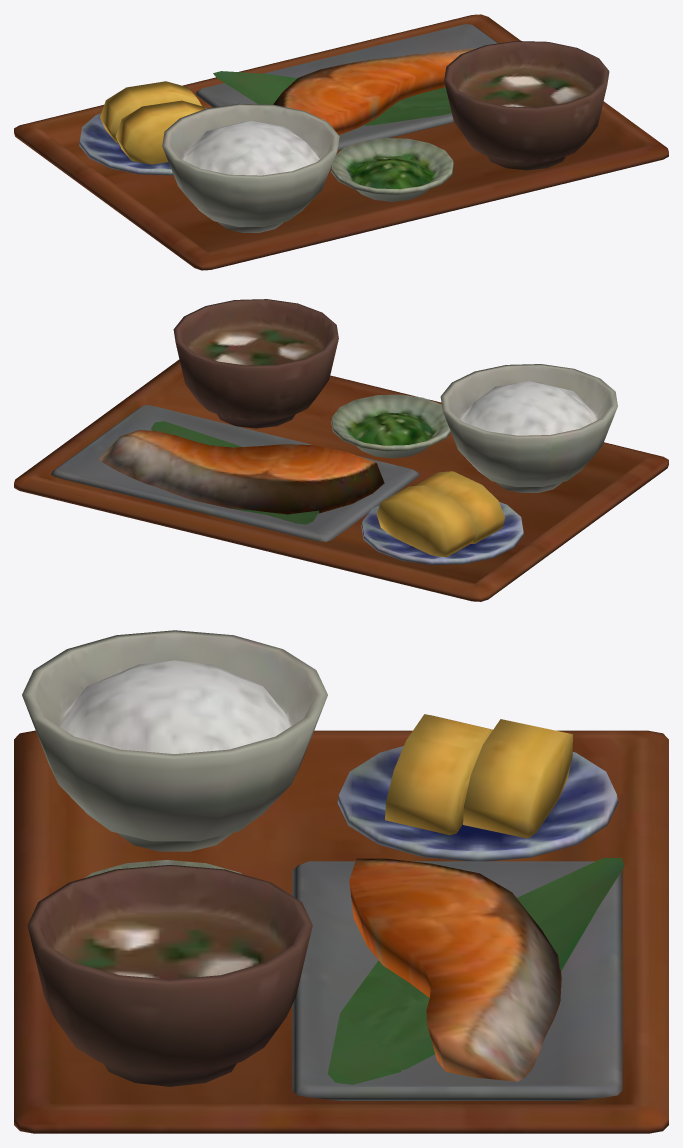
3 views of the same model, one above another, from view 1: azimuth 30°, elevation 25°; view 2: azimuth 150°, elevation 25°; view 3: azimuth 270°, elevation 25° (orthographic). The views are drawn at different scales.
Size of the model in its own units: 9.17 by 1.77 by 6.43.
Materials: 1 (1 with a texture image).
